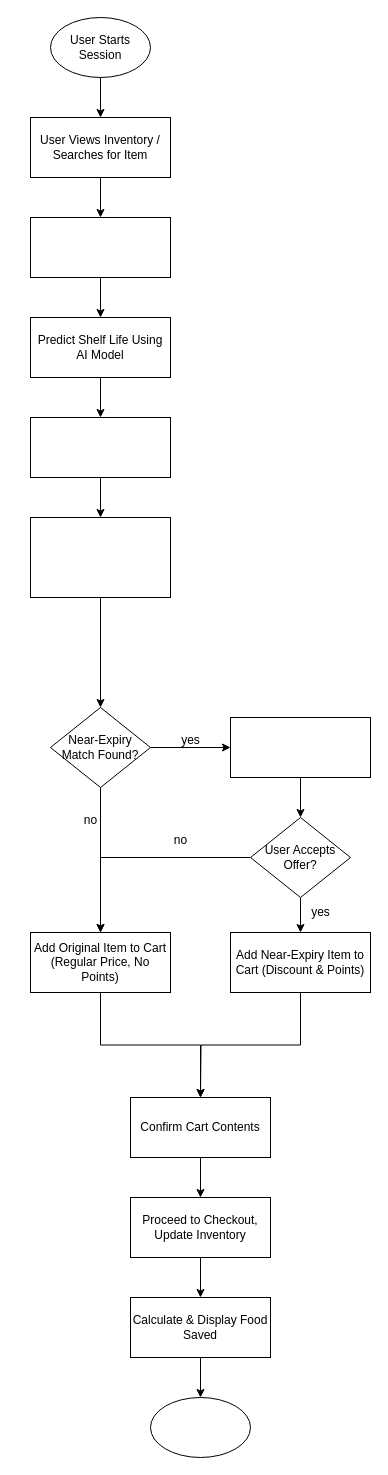
Image size: 388x1475. Some labels were removed from this diagram. The box of each missing label's shape, as (x1, y1, x2, y2) in pixels:
Scan current_walmart_inventory.json for Near-Expiry Matches (≤5 days): (30, 516, 170, 598)
Session Ends: (150, 1396, 250, 1458)
Show Replacement Offer (Discount & 10 Points): (230, 716, 370, 778)
Update users_cart.json with expiry_date: (30, 416, 170, 478)
User Adds Item to Cart: (30, 216, 170, 278)
